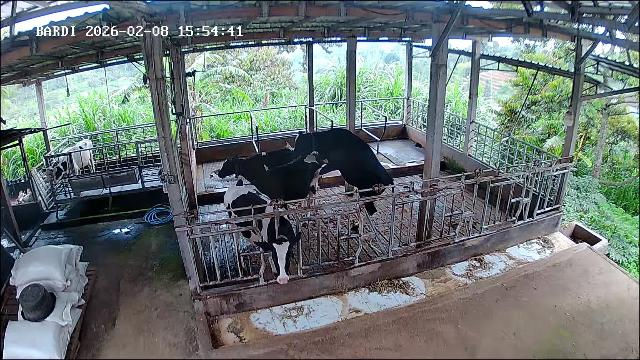mounting: (284, 125, 395, 234)
